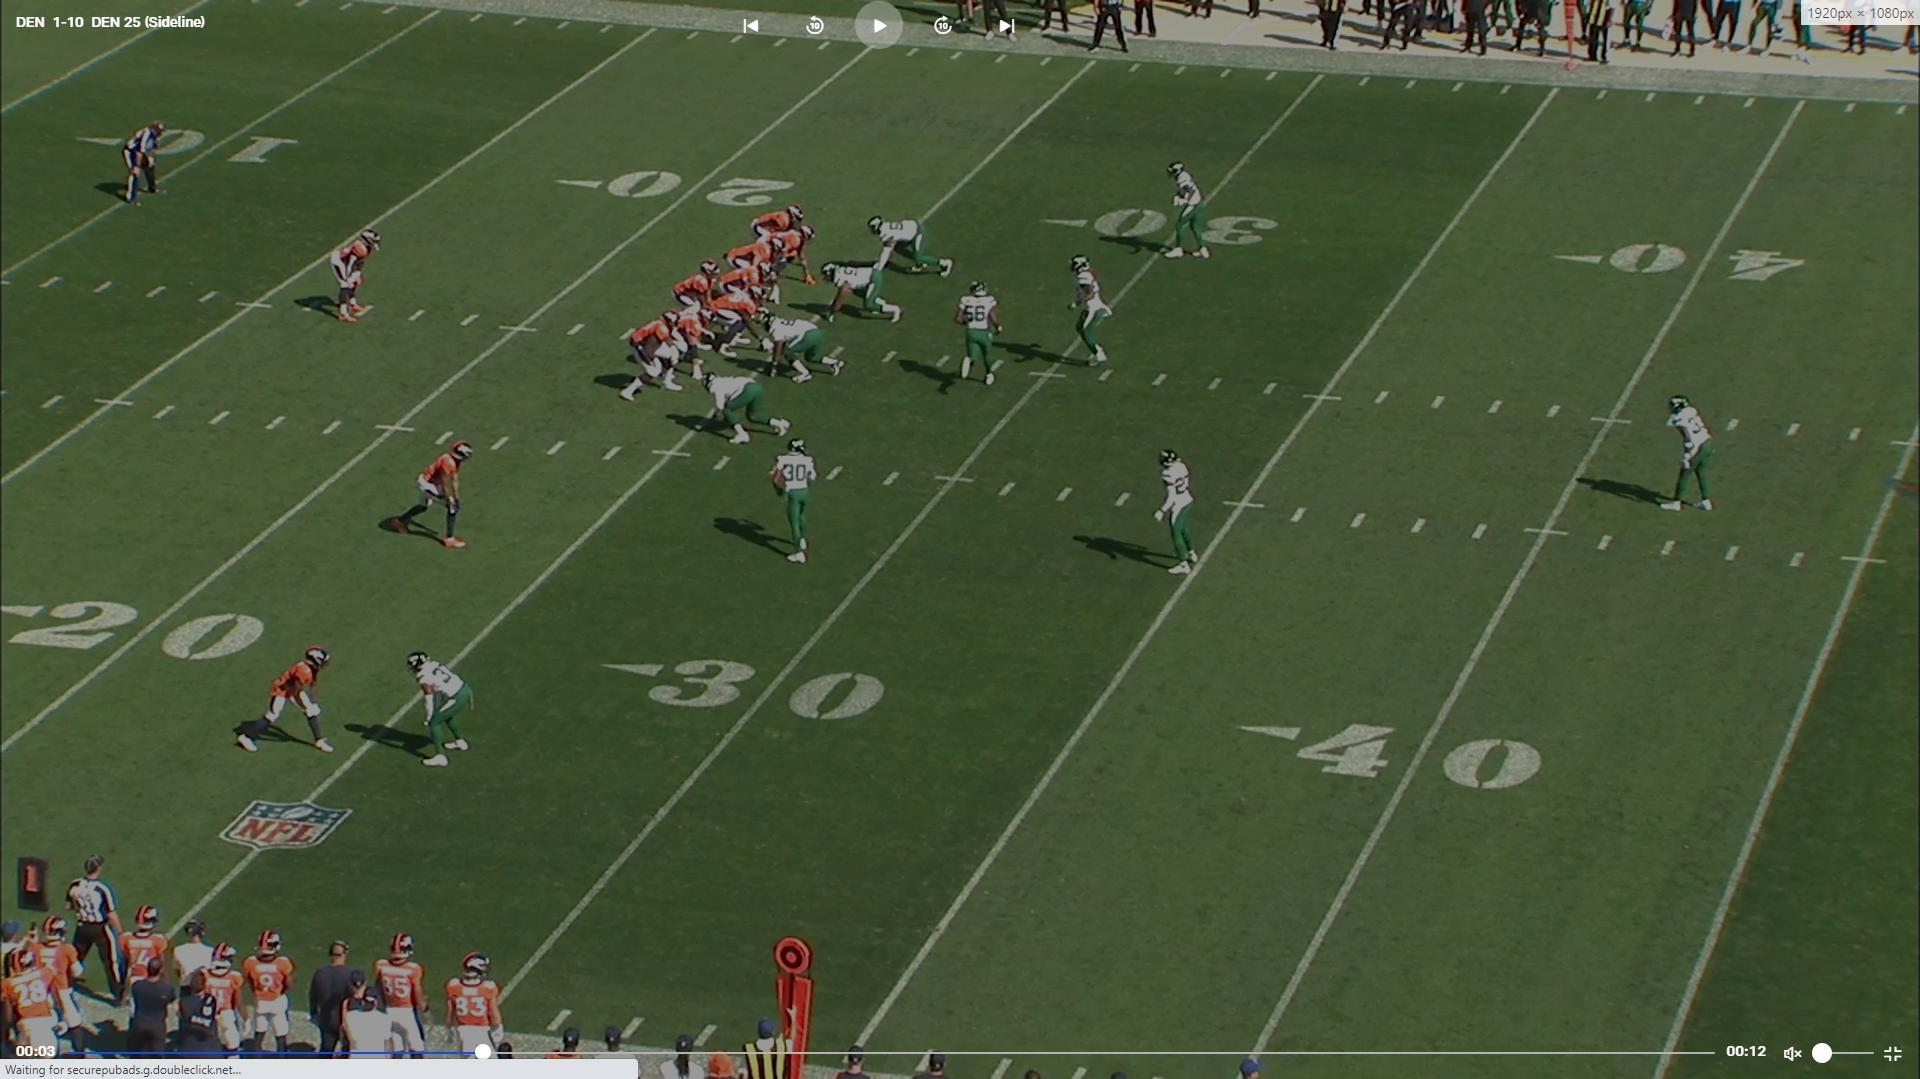defense: (407, 646, 476, 770), (699, 372, 795, 447), (1663, 393, 1718, 518), (1155, 446, 1205, 583), (770, 434, 819, 567), (764, 315, 847, 389), (872, 212, 959, 278), (953, 276, 1001, 393), (819, 264, 902, 330), (1068, 253, 1114, 372), (1166, 161, 1208, 266)
oline: (621, 314, 692, 405), (709, 274, 770, 357), (658, 305, 715, 380), (721, 232, 789, 273), (721, 259, 774, 294)
qb: (673, 256, 724, 314)
ref: (65, 849, 129, 944), (121, 119, 167, 211), (1083, 0, 1131, 58)
skill: (228, 637, 335, 758), (385, 430, 481, 553), (326, 223, 384, 322), (756, 223, 819, 288), (746, 203, 806, 240)
